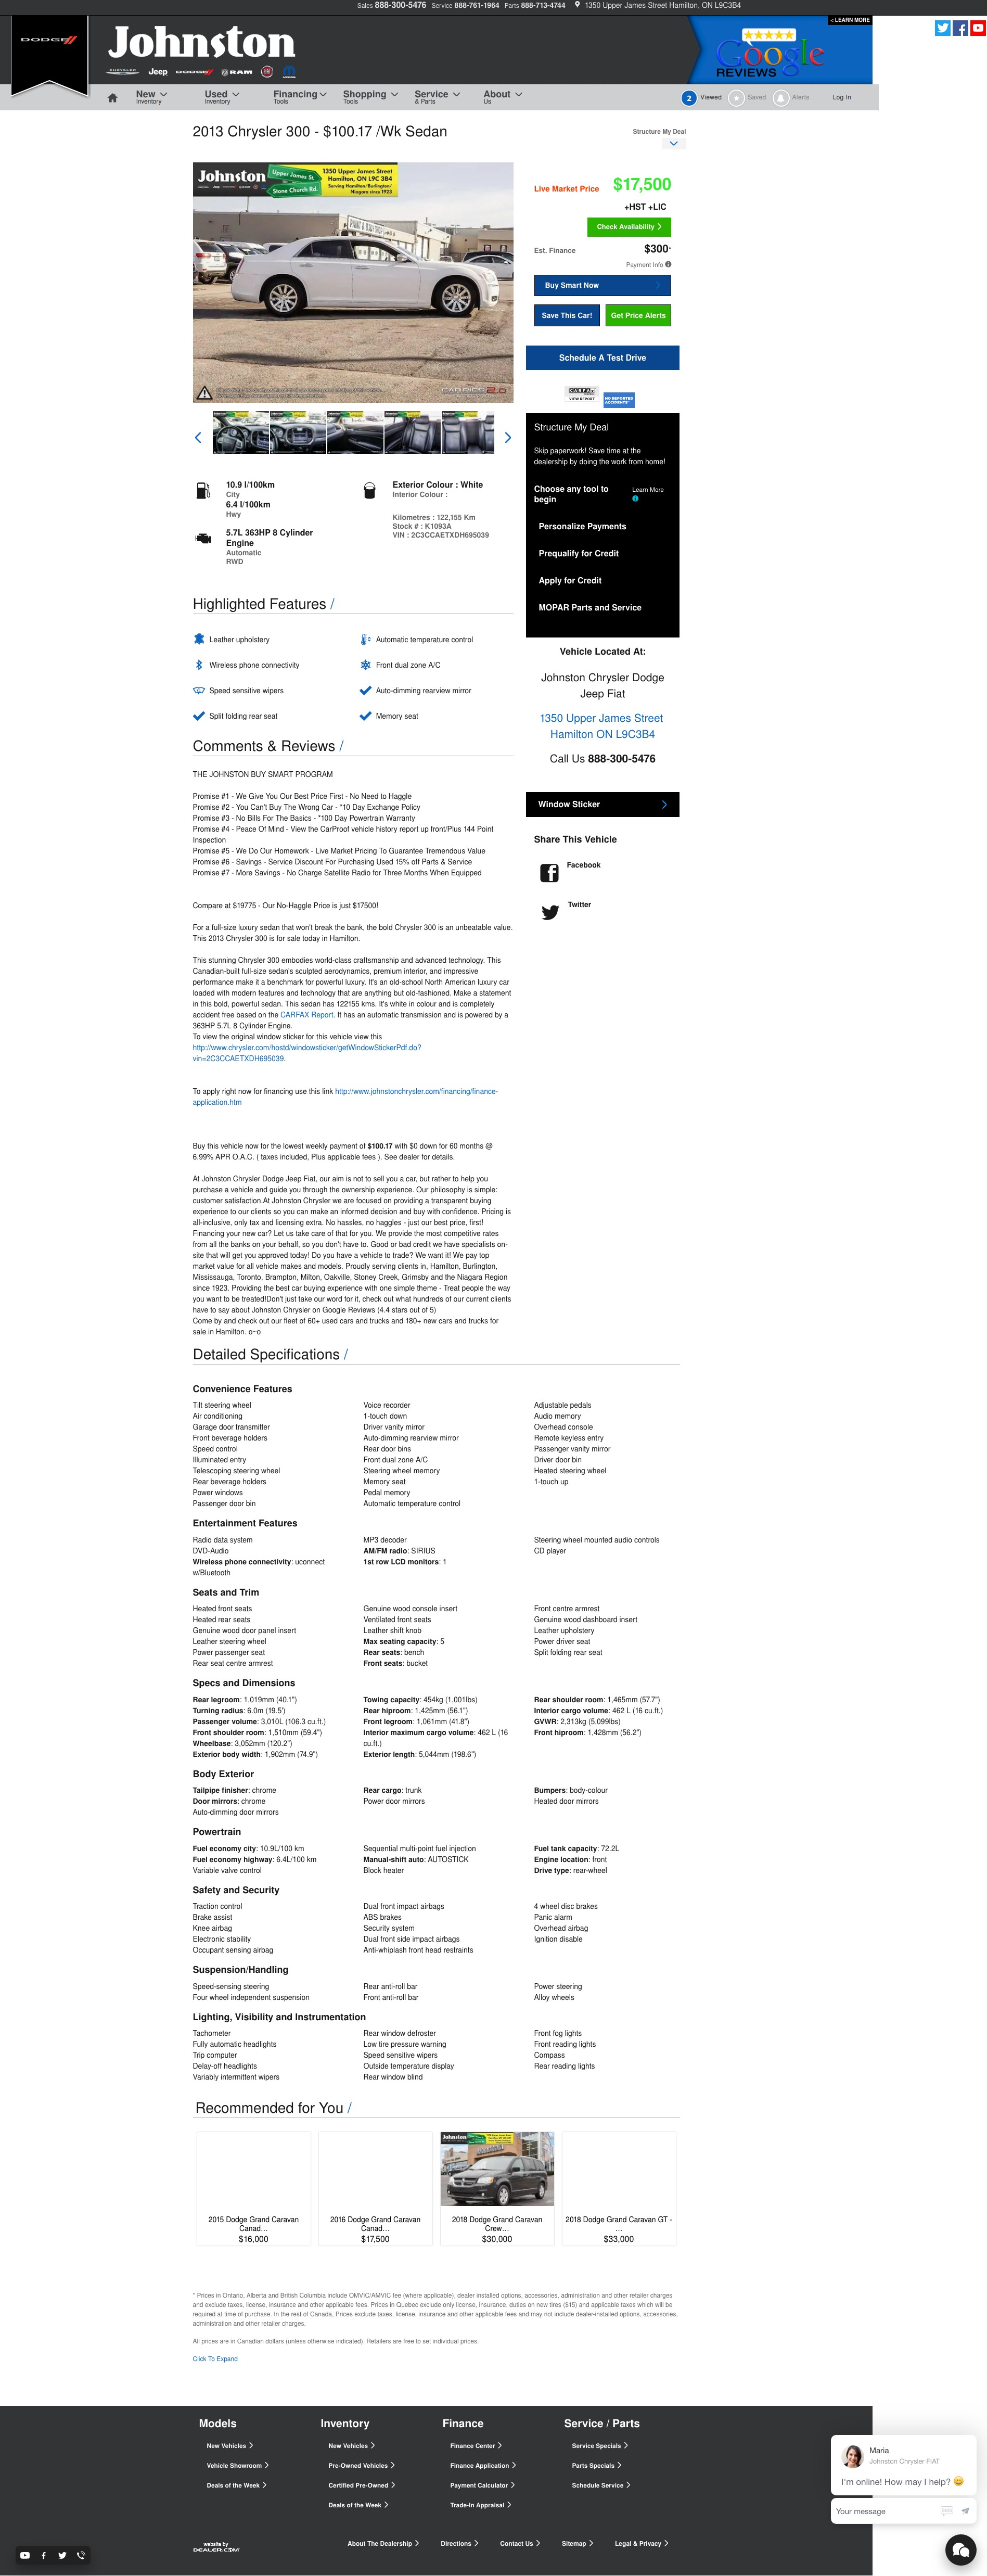car: (506, 432, 512, 444)
